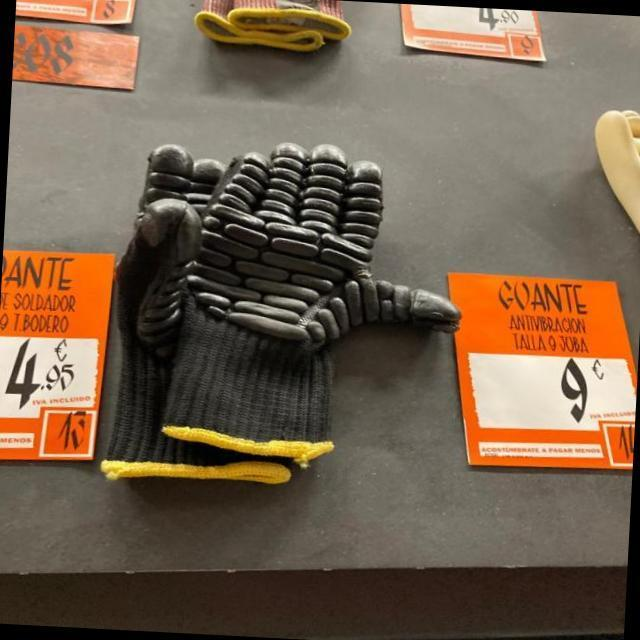Gloves: (107, 141, 458, 489), (190, 0, 355, 62), (589, 103, 640, 238)
